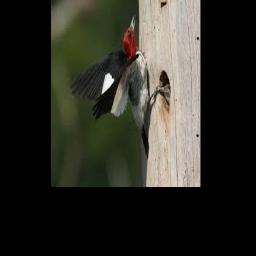Woodpecker: (71, 15, 169, 157)
